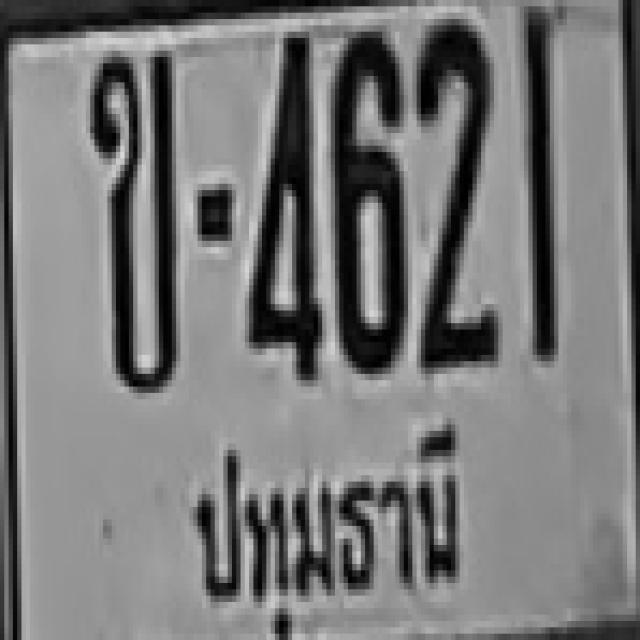-: (86, 44, 172, 374)
2: (416, 22, 489, 320), (414, 16, 488, 301)
4: (245, 41, 318, 377)
6: (328, 28, 402, 364)
PTE: (159, 418, 474, 632)
